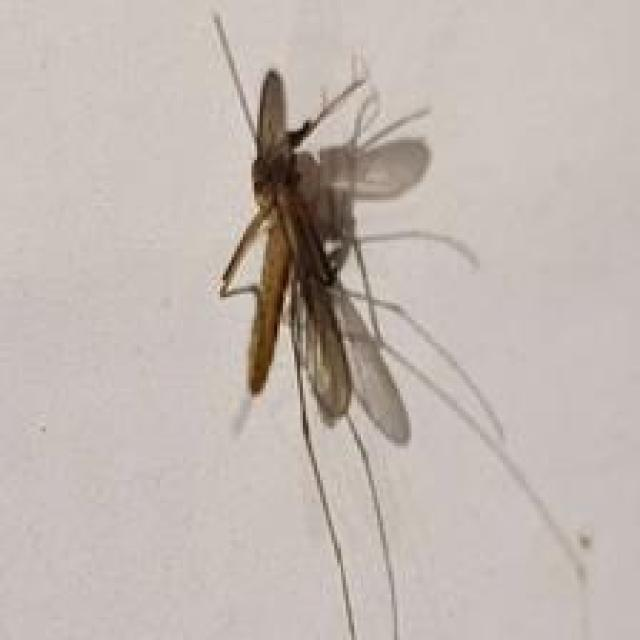Culex: (207, 11, 599, 640)
